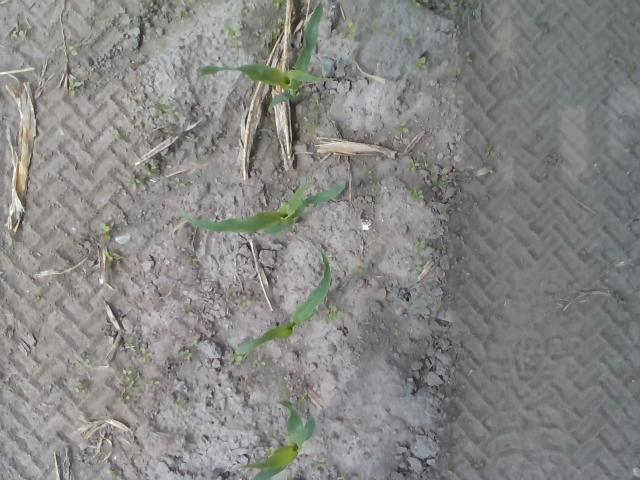Maize: (195, 1, 328, 113), (234, 247, 336, 353), (176, 180, 347, 236), (238, 398, 316, 480)
Weeds: (115, 366, 138, 402), (148, 94, 180, 118), (321, 302, 344, 320), (136, 346, 151, 364), (234, 294, 253, 308), (97, 224, 112, 241), (10, 20, 22, 40), (223, 24, 240, 38), (142, 376, 160, 389), (270, 16, 283, 34), (394, 120, 409, 135), (142, 164, 158, 178), (311, 456, 326, 470), (442, 1, 456, 16), (342, 18, 356, 33), (126, 176, 140, 190), (409, 188, 423, 202), (414, 56, 426, 72), (461, 50, 474, 64), (406, 160, 420, 173), (169, 176, 184, 188), (177, 350, 194, 360), (352, 262, 369, 272), (401, 33, 414, 46), (360, 168, 374, 180), (70, 359, 86, 369), (69, 79, 82, 91), (253, 355, 264, 369), (416, 240, 426, 255), (308, 98, 320, 110), (229, 351, 242, 361), (110, 130, 120, 143), (66, 46, 78, 56), (70, 383, 82, 393), (407, 0, 420, 9), (270, 0, 284, 8), (264, 446, 273, 458), (104, 253, 112, 266), (240, 8, 250, 17), (190, 339, 198, 347), (232, 43, 242, 49), (298, 394, 304, 404)
